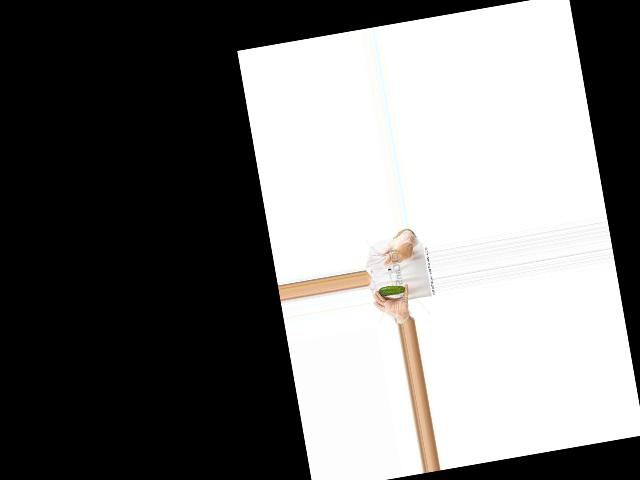cucumber: (378, 284, 406, 298)
